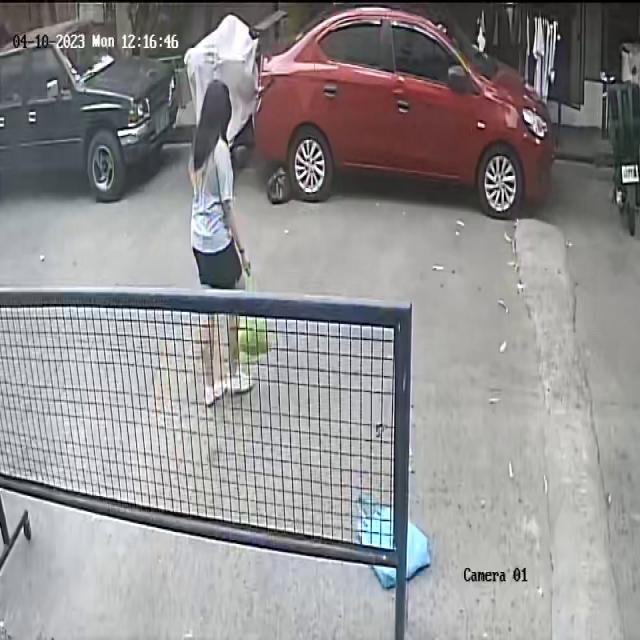human: (190, 79, 273, 408)
trash: (234, 254, 271, 358)
